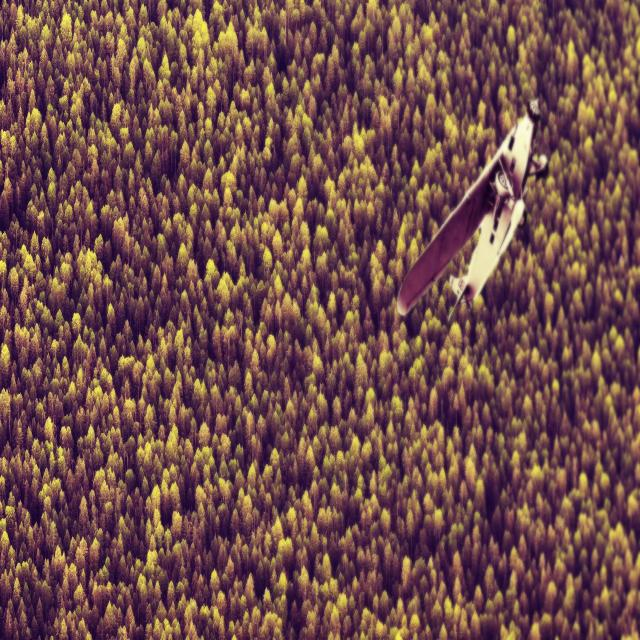airplane: (396, 96, 548, 324)
